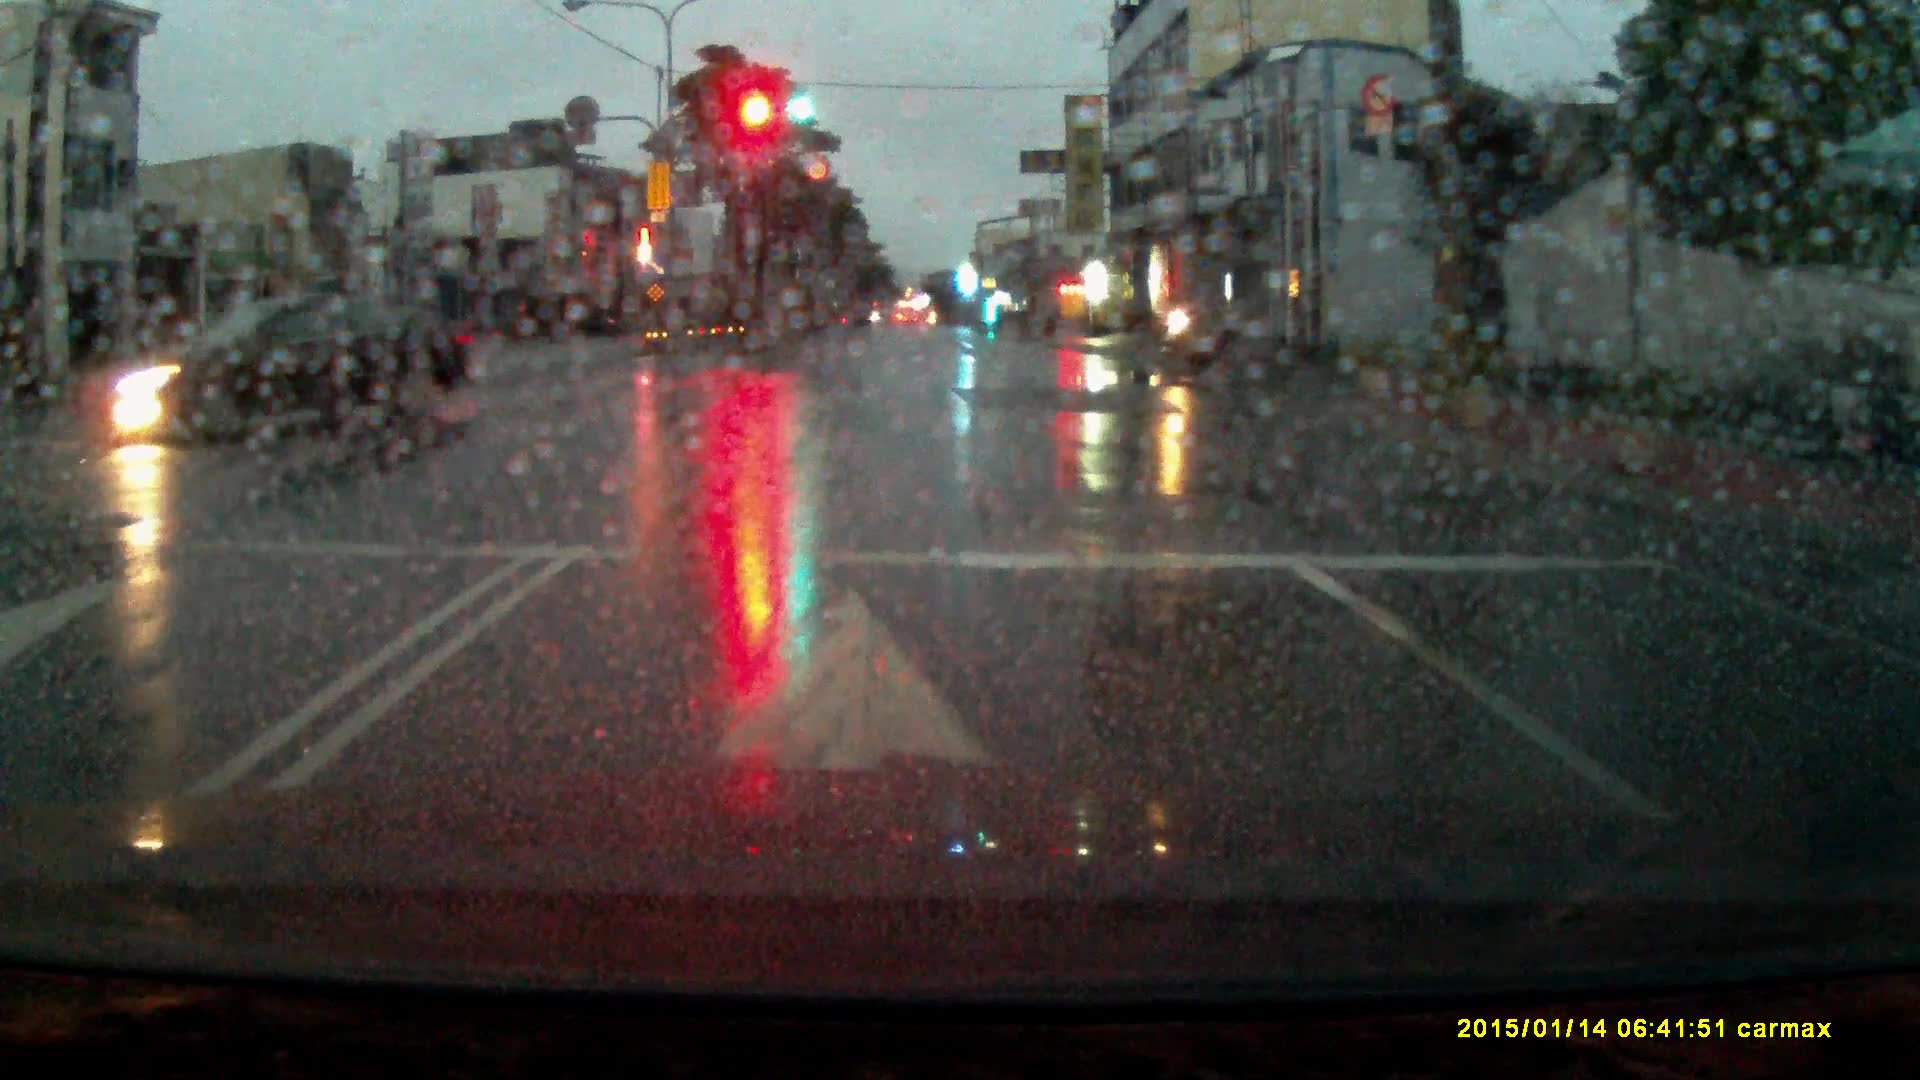rider: (1141, 283, 1228, 373)
vehicle: (112, 291, 466, 449)
